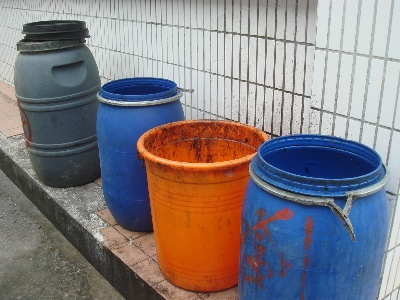bucket: (239, 134, 390, 300), (135, 118, 272, 293), (93, 77, 189, 234), (9, 37, 103, 187)
plate: (22, 20, 87, 34), (25, 29, 92, 39)
